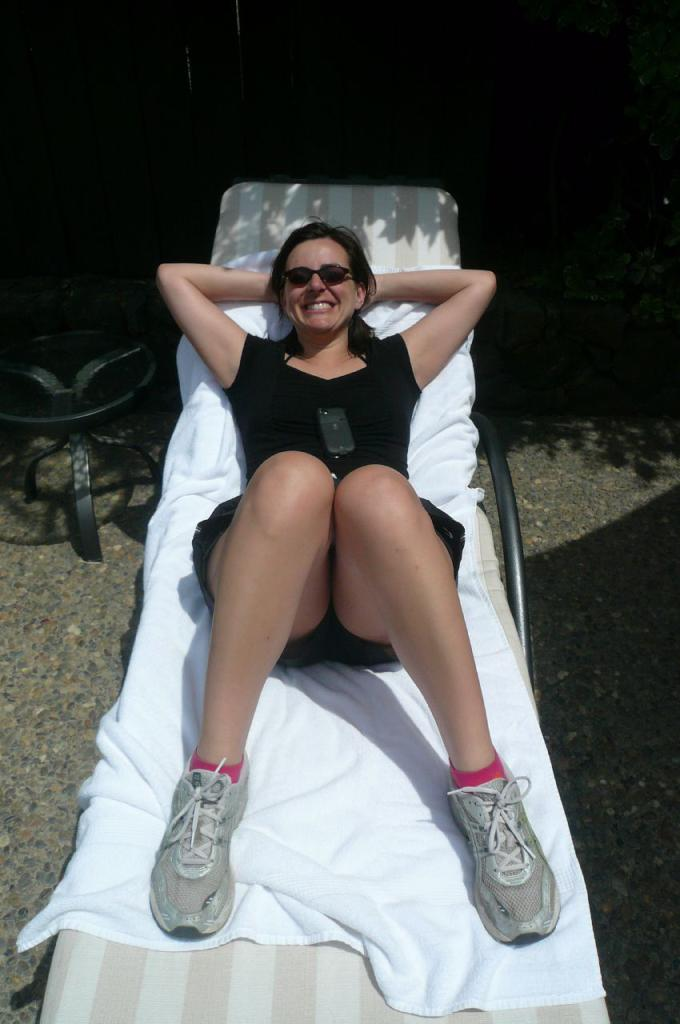Human-face: (279, 249, 354, 330)
